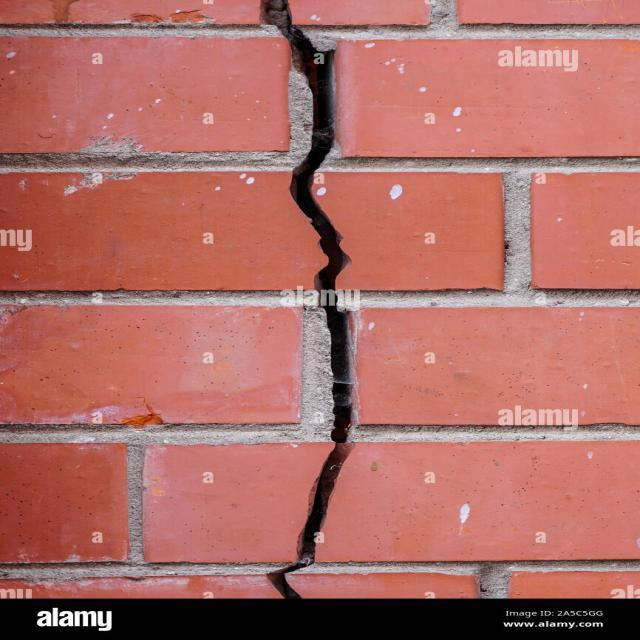Crack: (259, 1, 358, 594)
